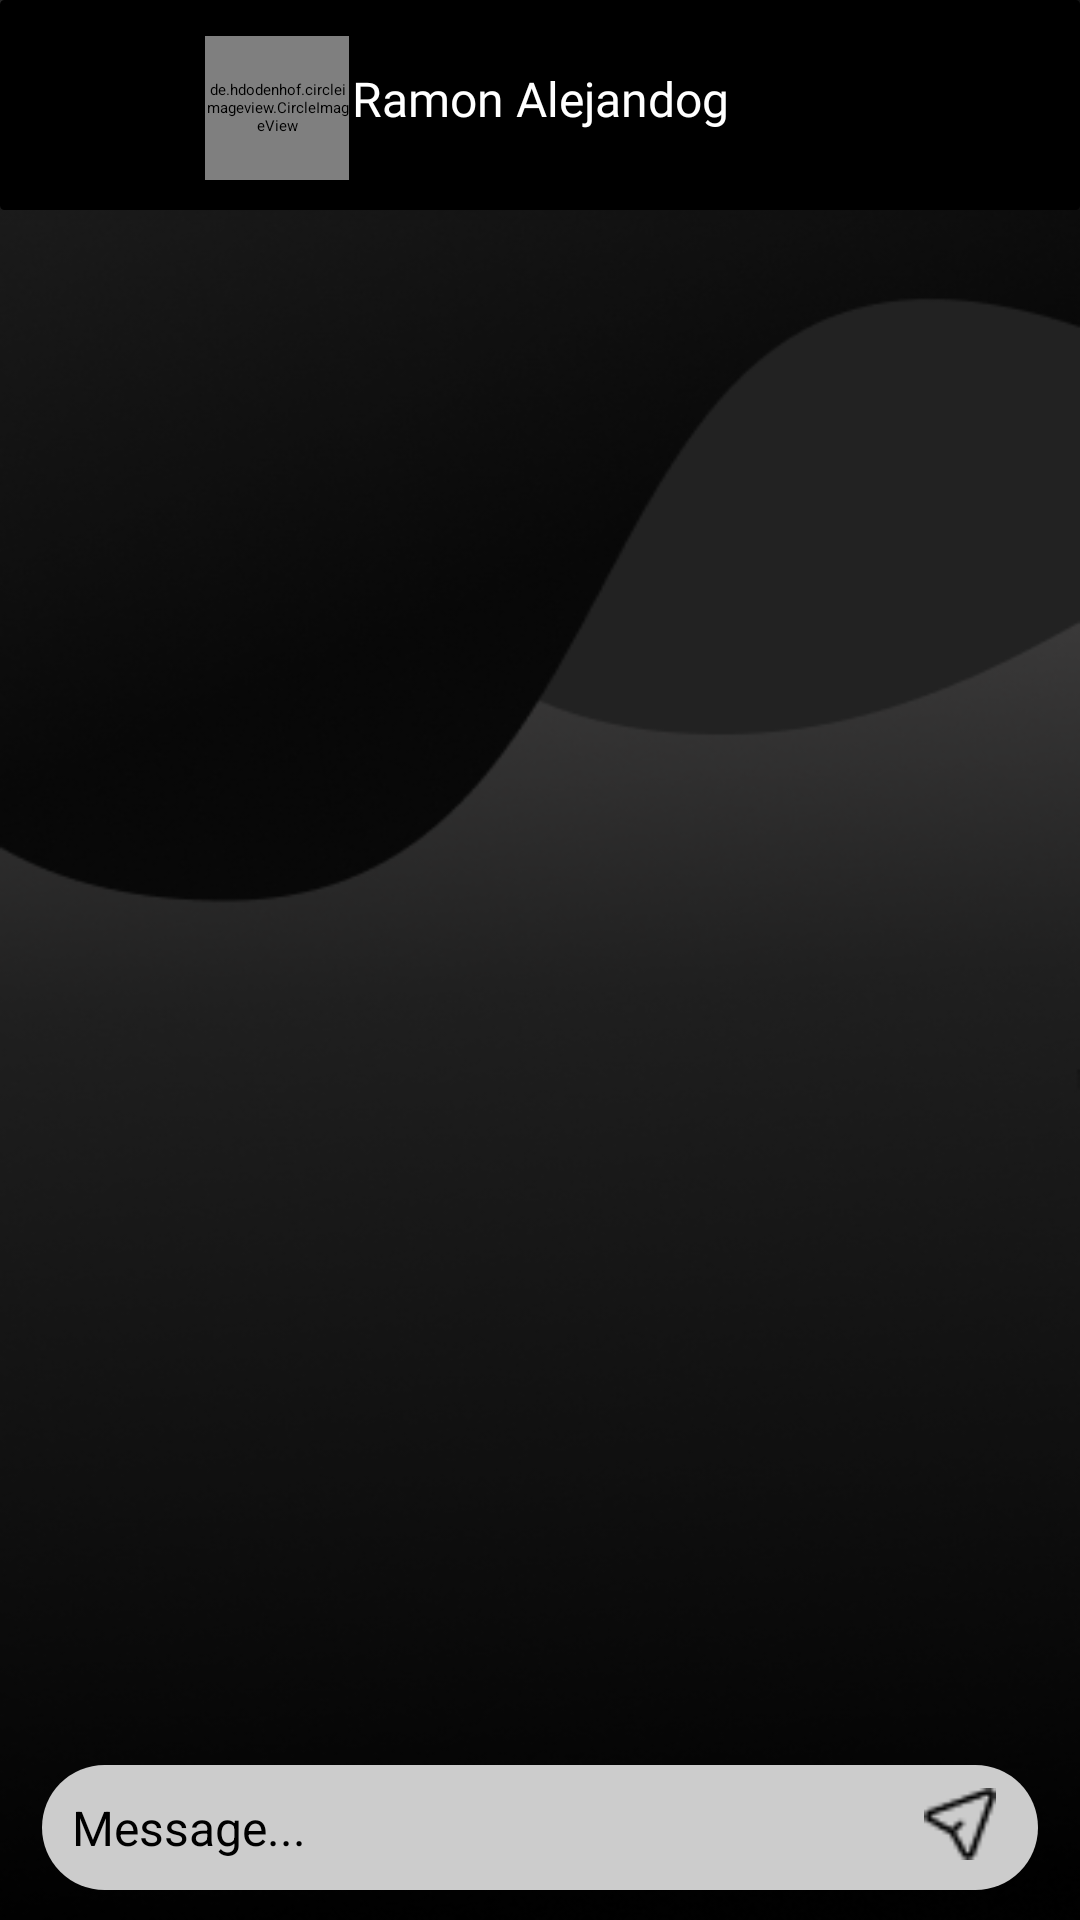

Icon click points for this 1080 × 1920 phone screenshot, format (x,y):
send: (960,1824)
